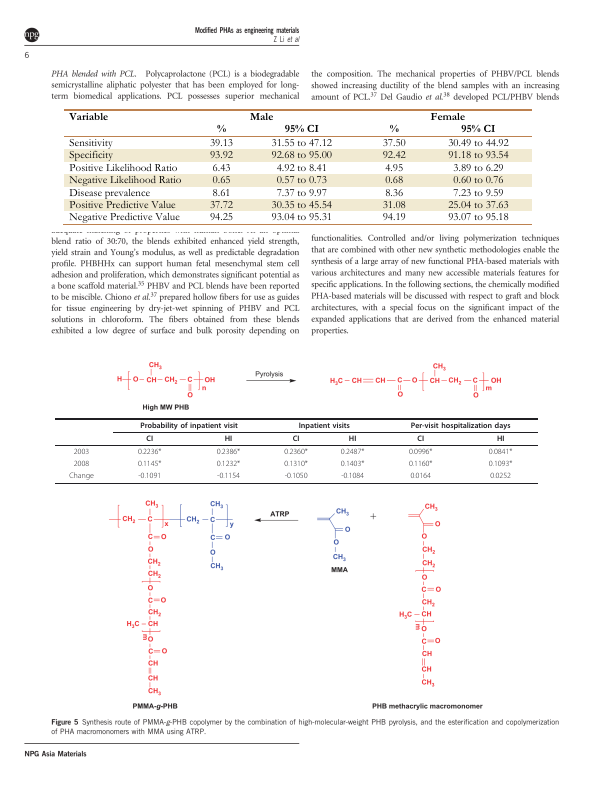borderless: (64, 107, 532, 224), (55, 417, 538, 483)
cell: (68, 175, 182, 187), (68, 212, 180, 224), (68, 162, 178, 174), (68, 200, 176, 212), (68, 187, 150, 199), (410, 421, 511, 430), (139, 421, 239, 430), (270, 138, 332, 150), (447, 138, 509, 150), (270, 150, 332, 162), (447, 150, 509, 162), (270, 200, 332, 212), (447, 200, 509, 212), (270, 212, 332, 224), (447, 212, 509, 224), (275, 162, 327, 174), (452, 162, 504, 174), (275, 175, 327, 187), (452, 175, 504, 187), (275, 187, 327, 199), (452, 187, 504, 199), (68, 138, 113, 150), (68, 150, 113, 162), (298, 421, 351, 430), (68, 111, 109, 121), (429, 111, 465, 121), (283, 124, 319, 133), (460, 124, 496, 133), (208, 138, 233, 150), (381, 138, 406, 150), (208, 150, 233, 162), (381, 150, 406, 162), (208, 200, 233, 212), (381, 200, 406, 212), (208, 212, 233, 224), (381, 212, 406, 224), (68, 471, 95, 481), (283, 447, 309, 457), (283, 459, 309, 469), (248, 111, 274, 121), (137, 447, 162, 457), (216, 447, 241, 457), (340, 447, 365, 457), (408, 447, 433, 457), (488, 447, 513, 457), (137, 459, 162, 469), (216, 459, 241, 469), (340, 459, 365, 469), (408, 459, 433, 469), (488, 459, 513, 469), (137, 471, 162, 481), (216, 471, 241, 481), (340, 471, 365, 481), (284, 471, 308, 481), (211, 162, 231, 174), (211, 175, 231, 187), (211, 187, 231, 199), (409, 471, 432, 481), (489, 471, 512, 481), (384, 162, 403, 174), (384, 175, 403, 187), (384, 187, 403, 199), (73, 447, 90, 457), (73, 459, 90, 469), (215, 124, 226, 133), (388, 124, 399, 133), (145, 434, 154, 444), (224, 434, 233, 444), (348, 434, 357, 444), (416, 434, 425, 444), (496, 434, 505, 444), (292, 434, 300, 444)
